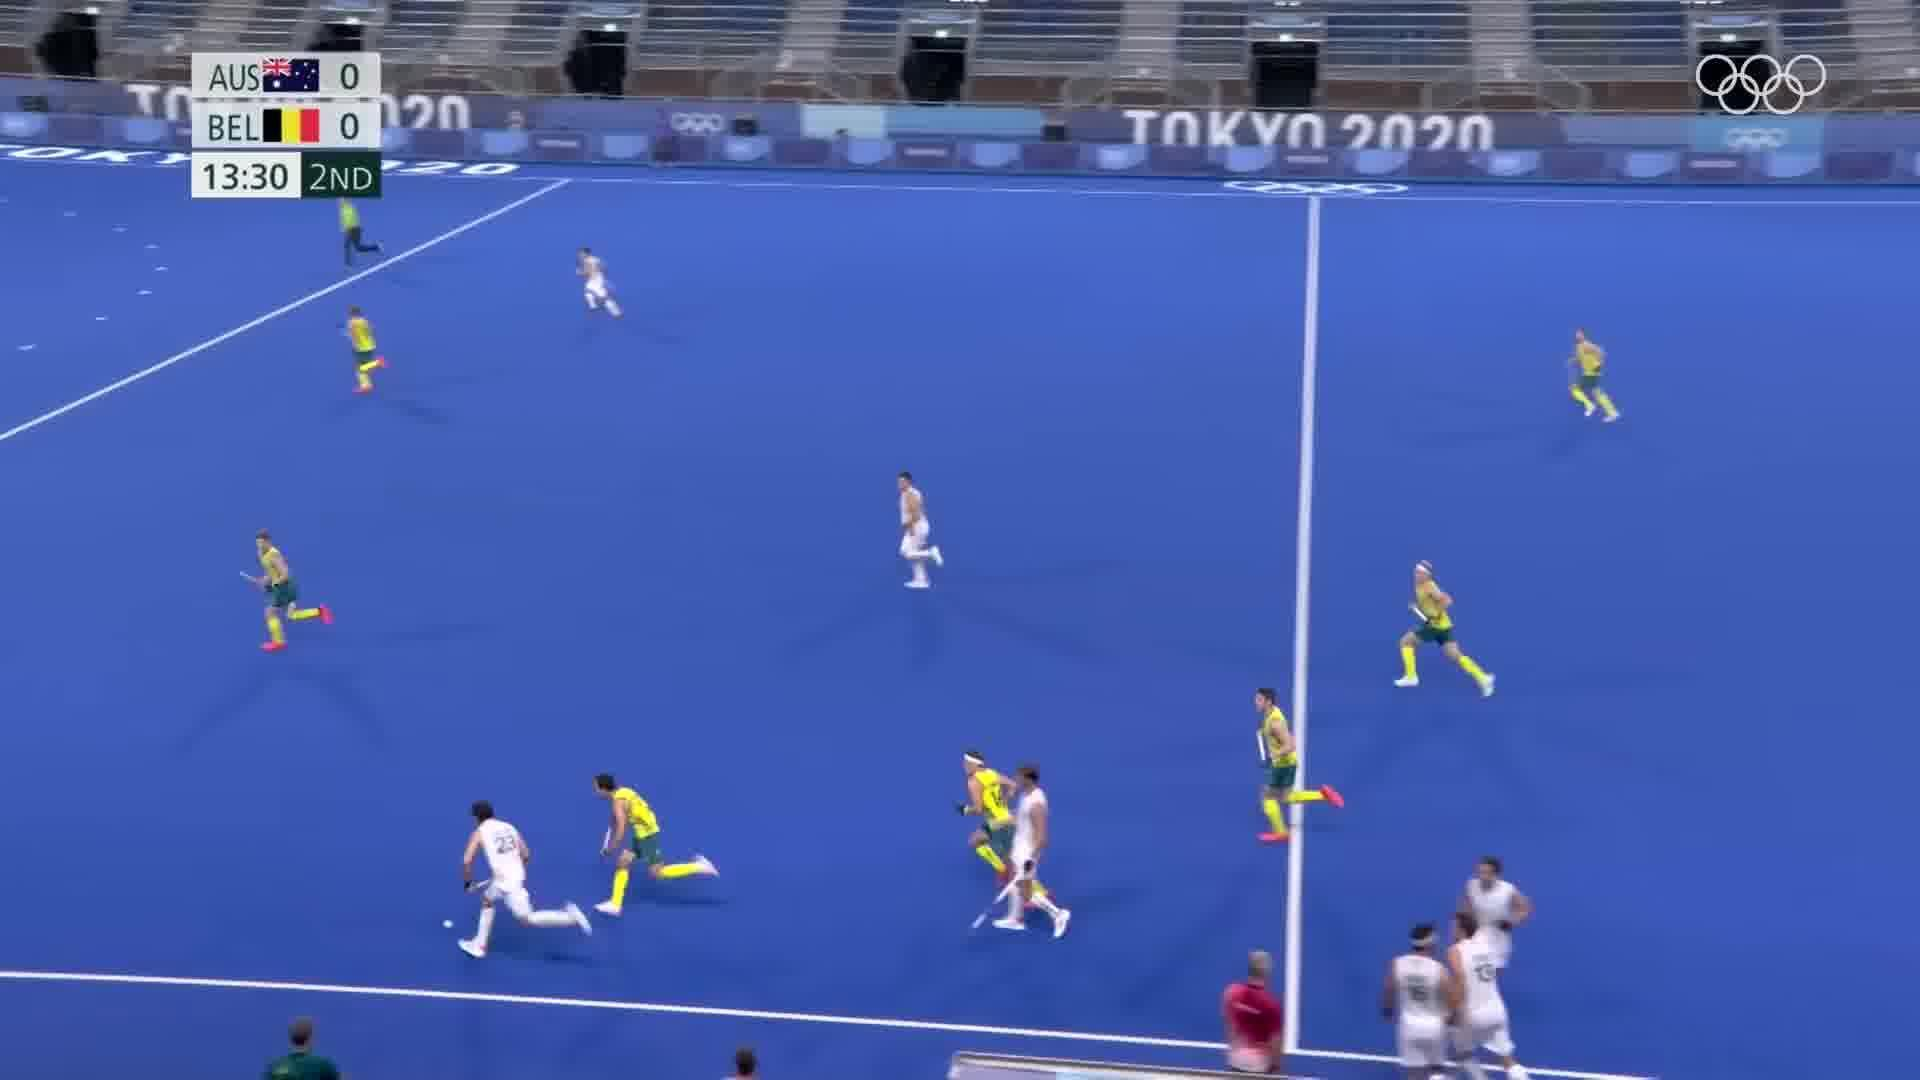ball: (430, 914, 459, 937)
